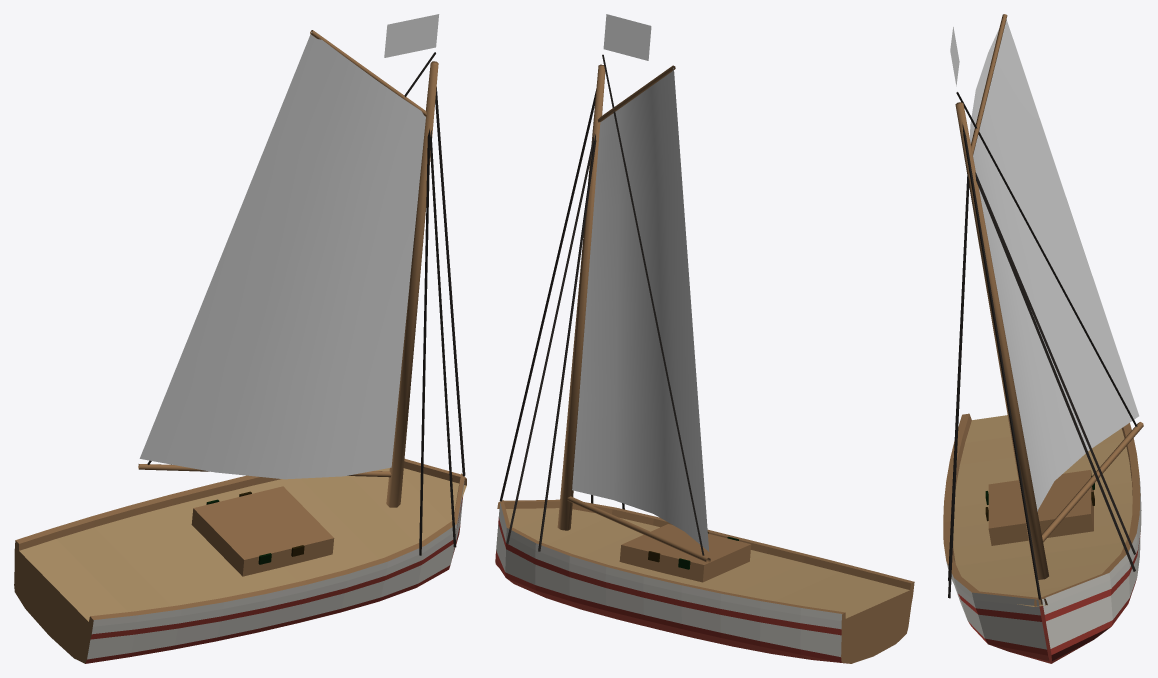
File: hull_cat_boat_sailing.glb
3 views of the same model, side by side, from view 1: azimuth 30°, elevation 25°; view 2: azimuth 150°, elevation 25°; view 3: azimuth 270°, elevation 25° (orthographic). The views are drawn at different scales.
Parts seen in each view (by area): view 1: hull_cat_boat_sailing_sail_main, hull_cat_boat_sailing_hull, hull_cat_boat_sailing_deck, hull_cat_boat_sailing_mast, hull_cat_boat_sailing_rigging, hull_cat_boat_sailing_flag; view 2: hull_cat_boat_sailing_sail_main, hull_cat_boat_sailing_hull, hull_cat_boat_sailing_rigging, hull_cat_boat_sailing_mast, hull_cat_boat_sailing_deck, hull_cat_boat_sailing_flag, hull_cat_boat_sailing_boom; view 3: hull_cat_boat_sailing_sail_main, hull_cat_boat_sailing_hull, hull_cat_boat_sailing_rigging, hull_cat_boat_sailing_mast, hull_cat_boat_sailing_deck, hull_cat_boat_sailing_boom.
Boxes of the visible parts, x1=… form: hull_cat_boat_sailing_sail_main: x1=139, y1=32, x2=425, y2=479; hull_cat_boat_sailing_hull: x1=14, y1=459, x2=466, y2=663; hull_cat_boat_sailing_deck: x1=191, y1=486, x2=334, y2=576; hull_cat_boat_sailing_mast: x1=310, y1=30, x2=438, y2=507; hull_cat_boat_sailing_rigging: x1=147, y1=52, x2=465, y2=555; hull_cat_boat_sailing_flag: x1=384, y1=14, x2=439, y2=57; hull_cat_boat_sailing_sail_main: x1=572, y1=67, x2=709, y2=551; hull_cat_boat_sailing_hull: x1=495, y1=499, x2=914, y2=663; hull_cat_boat_sailing_rigging: x1=499, y1=54, x2=704, y2=555; hull_cat_boat_sailing_mast: x1=557, y1=64, x2=675, y2=530; hull_cat_boat_sailing_deck: x1=619, y1=524, x2=751, y2=582; hull_cat_boat_sailing_flag: x1=603, y1=14, x2=651, y2=60; hull_cat_boat_sailing_boom: x1=567, y1=496, x2=710, y2=563; hull_cat_boat_sailing_sail_main: x1=970, y1=20, x2=1139, y2=511; hull_cat_boat_sailing_hull: x1=943, y1=413, x2=1141, y2=663; hull_cat_boat_sailing_rigging: x1=948, y1=92, x2=1137, y2=599; hull_cat_boat_sailing_mast: x1=955, y1=14, x2=1048, y2=579; hull_cat_boat_sailing_deck: x1=988, y1=470, x2=1093, y2=545; hull_cat_boat_sailing_boom: x1=1042, y1=422, x2=1143, y2=542.
Bounding box in the file's own units: 7.52 × 10.36 × 3.17.
